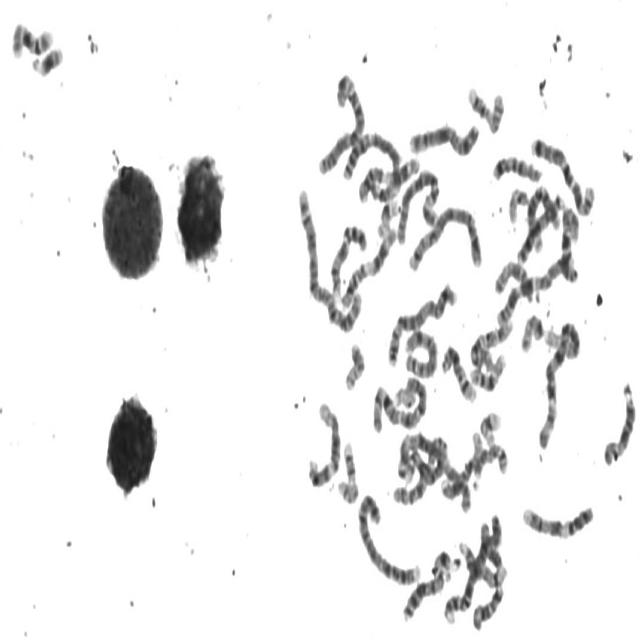A1: (536, 316, 584, 452), (371, 373, 428, 435)
A2: (294, 182, 364, 336), (316, 69, 367, 178)
A3: (397, 430, 474, 517), (340, 125, 402, 194)
B4: (441, 508, 503, 628), (354, 487, 422, 588)
B5: (385, 279, 458, 369), (405, 200, 484, 274)
C10: (328, 219, 368, 301), (467, 314, 515, 374)
C11: (337, 220, 398, 311), (355, 152, 421, 205)
C12: (439, 440, 510, 502), (305, 396, 342, 491)
C6: (394, 164, 442, 247), (401, 426, 451, 491)
C7: (493, 249, 577, 329), (528, 132, 596, 218)
C8: (525, 178, 560, 257), (402, 324, 438, 380)
C9: (519, 498, 596, 542), (328, 219, 368, 301)
D13: (400, 566, 448, 624), (489, 146, 542, 185)
D14: (456, 537, 508, 589), (438, 339, 478, 404)
D15: (601, 376, 637, 468), (492, 255, 536, 303)
E16: (9, 16, 55, 59), (467, 347, 508, 393)
E17: (465, 80, 505, 135), (335, 436, 359, 506)
E18: (559, 200, 583, 284), (470, 582, 505, 634)
F19: (374, 195, 401, 239), (477, 406, 503, 448)
F20: (342, 339, 367, 393), (519, 309, 544, 355)
G21: (29, 40, 64, 80), (429, 547, 463, 579)
G22: (506, 182, 529, 225), (469, 426, 484, 481)
X: (514, 187, 566, 266), (406, 116, 481, 160)
